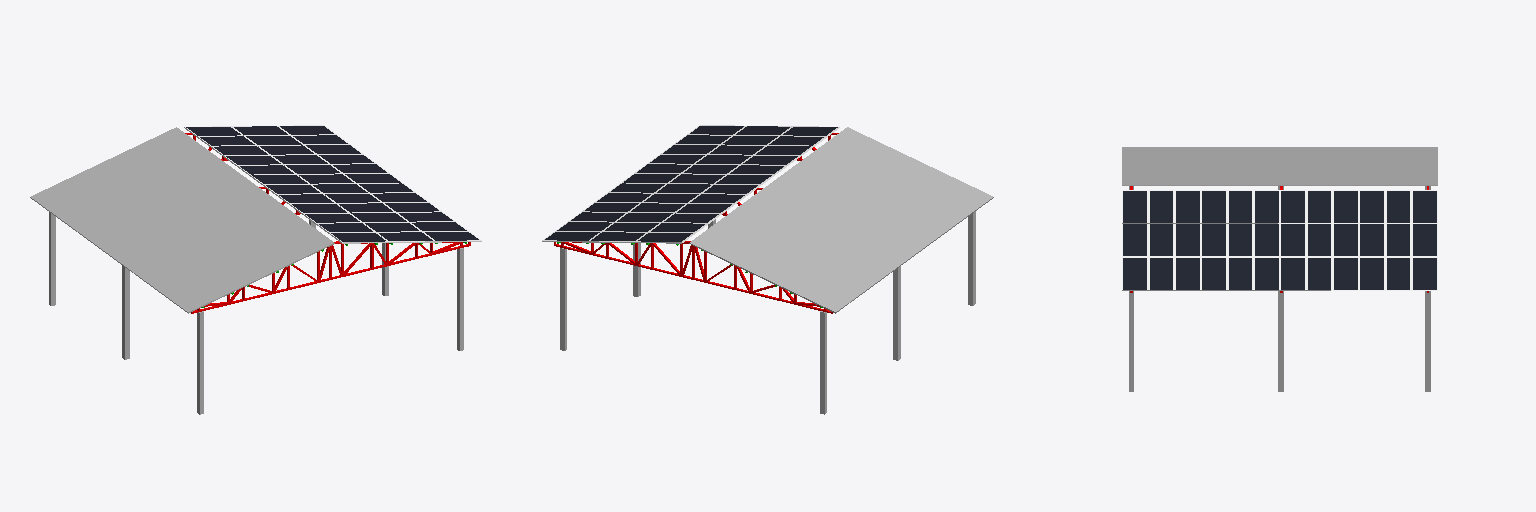
File: exemplo3D.obj
The picture shows the model from 3 angles: view 1: azimuth 30°, elevation 25°; view 2: azimuth 150°, elevation 25°; view 3: azimuth 270°, elevation 25°; orthographic projection.
Parts seen in each view (by area): view 1: Mesh14 Group15 Group10 Model, Mesh7 Group7 Model, Mesh5 Group5 Model, Mesh1 Group1 Model, Mesh2 Group2 Model, Mesh4 Group4 Model, Mesh36 Group38 Group22 Model; view 2: Mesh14 Group15 Group10 Model, Mesh9 Group9 Model, Mesh1 Group1 Model, Mesh5 Group5 Model, Mesh4 Group4 Model, Mesh3 Group3 Model, Mesh46 Group48 Group22 Model; view 3: Mesh14 Group15 Group10 Model, Mesh23 Group25 Group22 Model, Mesh25 Group27 Group22 Model, Mesh30 Group32 Group22 Model, Mesh35 Group37 Group22 Model, Mesh39 Group41 Group22 Model, Mesh40 Group42 Group22 Model, Mesh44 Group46 Group22 Model, Mesh50 Group52 Group22 Model, Mesh27 Group29 Group22 Model, Mesh32 Group34 Group22 Model, Mesh48 Group50 Group22 Model (+27 smaller).
Boxes of the visible parts, x1,y1,x2,y2 form: Mesh14 Group15 Group10 Model: [30, 127, 334, 313]; Mesh7 Group7 Model: [191, 241, 470, 313]; Mesh5 Group5 Model: [122, 265, 129, 359]; Mesh1 Group1 Model: [197, 311, 203, 414]; Mesh2 Group2 Model: [457, 248, 463, 350]; Mesh4 Group4 Model: [49, 212, 55, 305]; Mesh36 Group38 Group22 Model: [329, 232, 388, 243]; Mesh14 Group15 Group10 Model: [689, 127, 993, 313]; Mesh9 Group9 Model: [554, 241, 832, 313]; Mesh1 Group1 Model: [968, 211, 975, 305]; Mesh5 Group5 Model: [893, 266, 900, 360]; Mesh4 Group4 Model: [820, 311, 826, 414]; Mesh3 Group3 Model: [560, 248, 566, 350]; Mesh46 Group48 Group22 Model: [635, 232, 694, 243]; Mesh14 Group15 Group10 Model: [1122, 147, 1437, 185]; Mesh23 Group25 Group22 Model: [1227, 257, 1253, 290]; Mesh25 Group27 Group22 Model: [1148, 257, 1174, 290]; Mesh30 Group32 Group22 Model: [1306, 257, 1332, 290]; Mesh35 Group37 Group22 Model: [1385, 257, 1411, 290]; Mesh39 Group41 Group22 Model: [1227, 190, 1253, 223]; Mesh40 Group42 Group22 Model: [1148, 190, 1174, 223]; Mesh44 Group46 Group22 Model: [1385, 190, 1411, 223]; Mesh50 Group52 Group22 Model: [1306, 190, 1332, 223]; Mesh27 Group29 Group22 Model: [1385, 224, 1411, 256]; Mesh32 Group34 Group22 Model: [1306, 224, 1332, 256]; Mesh48 Group50 Group22 Model: [1227, 224, 1253, 256].
Bounding box in the file's own units: 12.06 × 5.59 × 11.24.